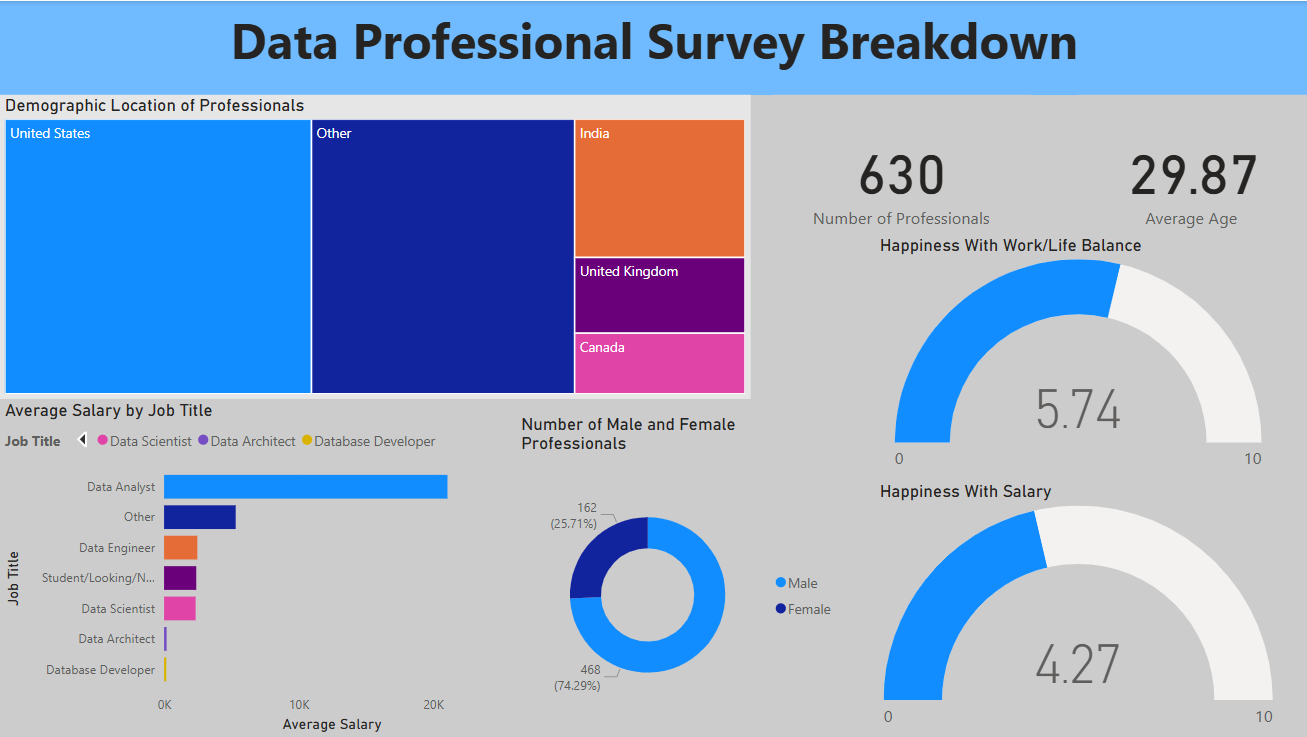

This screenshot's page, from the dashboard's own definition file:
{"tool":"powerbi","page":{"name":"Page 1","canvas":[1280,720],"ordinal":0},"visuals":[{"type":"textbox","box":[0,0,1280.3,91.7],"z":0},{"type":"card","fields":{"Values":["Count(Data Professional Survey.Unique ID)"]},"box":[756.1,91.9,252.5,163.3],"z":1000},{"type":"card","fields":{"Values":["Avg(Data Professional Survey.Q10 - Current Age)"]},"box":[1055.2,91.9,225,163.3],"z":2000},{"type":"barChart","title":"Average Salary by Job Title","fields":{"Category":["Data Professional Survey.Q1 - Which Title Best Fits your Current Role?.1"],"Y":["Sum(Data Professional Survey.Average Salary)"],"Series":["Data Professional Survey.Q1 - Which Title Best Fits your Current Role?.1"]},"box":[0,389.7,505,330.7],"z":3000},{"type":"treemap","title":"Demographic Location of Professionals","fields":{"Values":["CountNonNull(Data Professional Survey.Q11 - Which Country do you live in?.1)"],"Group":["Data Professional Survey.Q11 - Which Country do you live in?.1"]},"box":[0,91.9,734.1,297.8],"z":4000},{"type":"gauge","title":"Happiness With Work/Life Balance","fields":{"Y":["Avg(Data Professional Survey.Q6 - How Happy are you in your Current Position with the following? (Work/Life Balance))"],"MinValue":["Min(Data Professional Survey.Q6 - How Happy are you in your Current Position with the following? (Work/Life Balance))1"],"MaxValue":["Max(Data Professional Survey.Q6 - How Happy are you in your Current Position with the following? (Work/Life Balance))"]},"box":[856.3,229.2,397.9,240.1],"z":5000},{"type":"gauge","title":"Happiness With Salary","fields":{"MaxValue":["Max(Data Professional Survey.Q6 - How Happy are you in your Current Position with the following? (Salary))"],"MinValue":["Min(Data Professional Survey.Q6 - How Happy are you in your Current Position with the following? (Salary))"],"Y":["Avg(Data Professional Survey.Q6 - How Happy are you in your Current Position with the following? (Salary))1"]},"box":[856.3,469.3,397.9,251.1],"z":6000},{"type":"donutChart","title":"Number of Male and Female Professionals ","fields":{"Category":["Data Professional Survey.Q9 - Male/Female?"],"Y":["CountNonNull(Data Professional Survey.Q7 - How difficult was it for you to break into Data?)"]},"box":[505,403.4,322.5,317],"z":7000}]}

Visuals, with their boxes in screenshot pixels (x1, y1, x2, y2), scaled from the page's 1280x720 canvas onto the 1307x737 screenshot:
textbox: left=0, top=0, right=1306, bottom=94
card - Count(Data Professional Survey.Unique ID): left=772, top=94, right=1030, bottom=261
card - Avg(Data Professional Survey.Q10 - Current Age): left=1077, top=94, right=1306, bottom=261
"Average Salary by Job Title" barChart: left=0, top=399, right=516, bottom=736
"Demographic Location of Professionals" treemap: left=0, top=94, right=750, bottom=399
"Happiness With Work/Life Balance" gauge: left=874, top=235, right=1281, bottom=480
"Happiness With Salary" gauge: left=874, top=480, right=1281, bottom=736
"Number of Male and Female Professionals " donutChart: left=516, top=413, right=845, bottom=736
